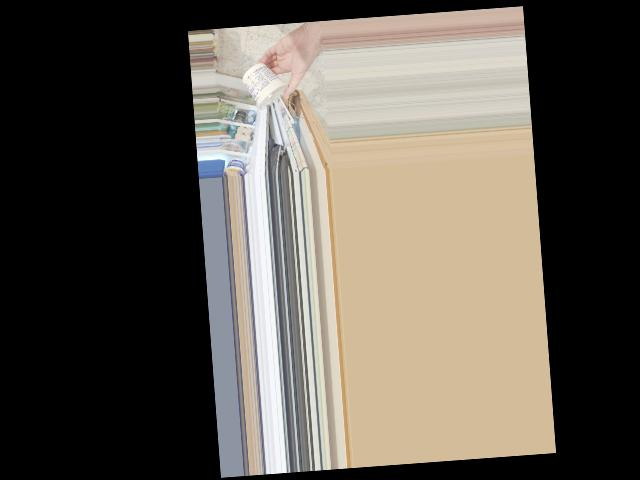cotage: (247, 67, 286, 111)
